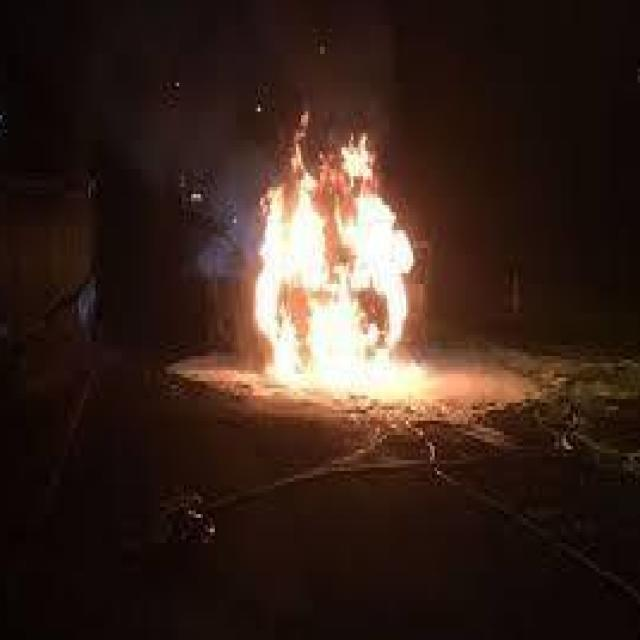smoke: (250, 111, 422, 382)
